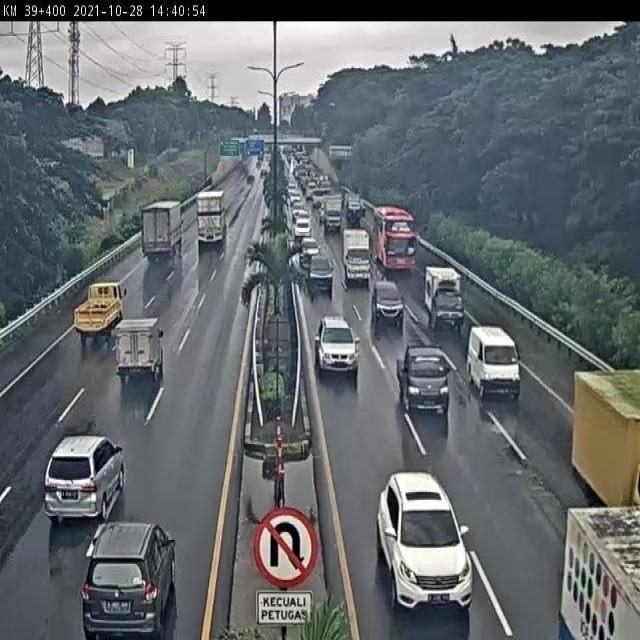ARABA: (375, 469, 471, 614), (82, 517, 180, 640), (44, 429, 125, 522), (468, 326, 522, 402), (395, 342, 450, 414), (314, 316, 360, 377), (369, 279, 405, 325), (307, 253, 334, 291)
KAMYONET: (76, 280, 129, 344), (115, 316, 164, 381), (424, 266, 467, 334), (142, 200, 185, 259), (342, 228, 373, 288)
OTOBUS: (372, 204, 416, 275)
TIR: (196, 190, 228, 246)
